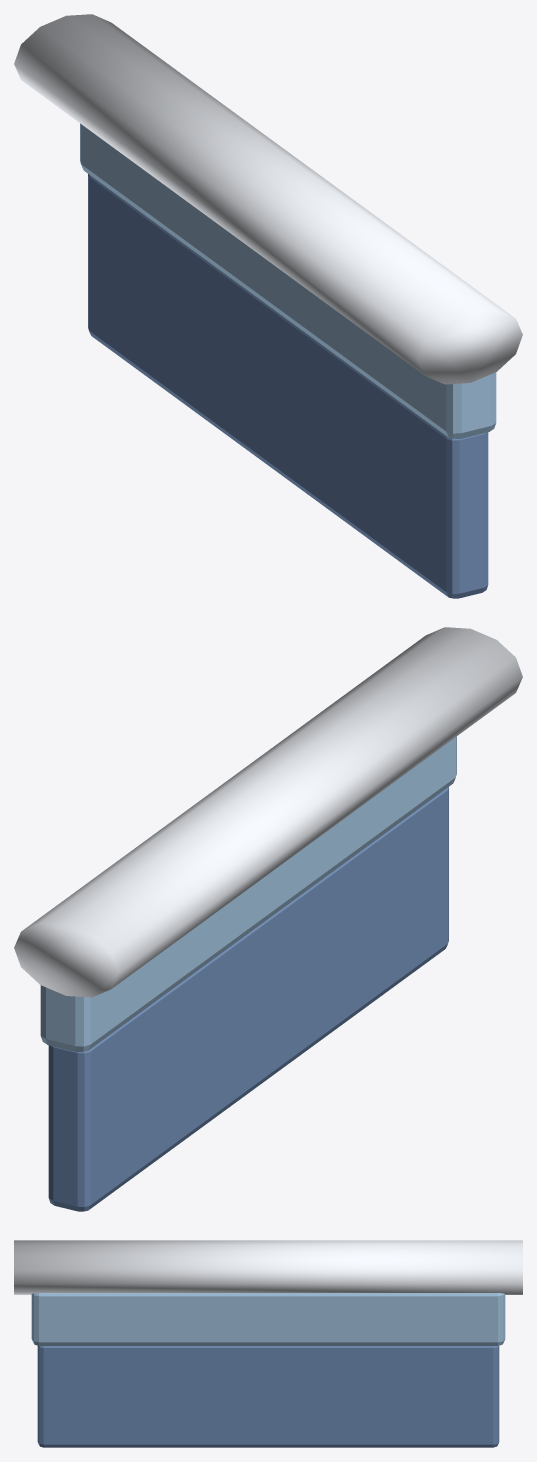
File: plat_end.glb
3 views of the same model, one above another, from view 1: azimuth 30°, elevation 25°; view 2: azimuth 150°, elevation 25°; view 3: azimuth 270°, elevation 25° (orthographic). The views are drawn at different scales.
Visible parts, largest first — view 1: plat_end_mesh; view 2: plat_end_mesh; view 3: plat_end_mesh.
Part boxes in pixels (x1=…): plat_end_mesh: x1=14, y1=14, x2=522, y2=598; plat_end_mesh: x1=14, y1=627, x2=522, y2=1211; plat_end_mesh: x1=14, y1=1240, x2=522, y2=1447.
Bounding box in the file's own units: 0.64 × 1.79 × 4.3.
